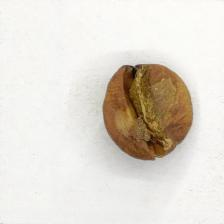NG: (113, 66, 178, 150)
